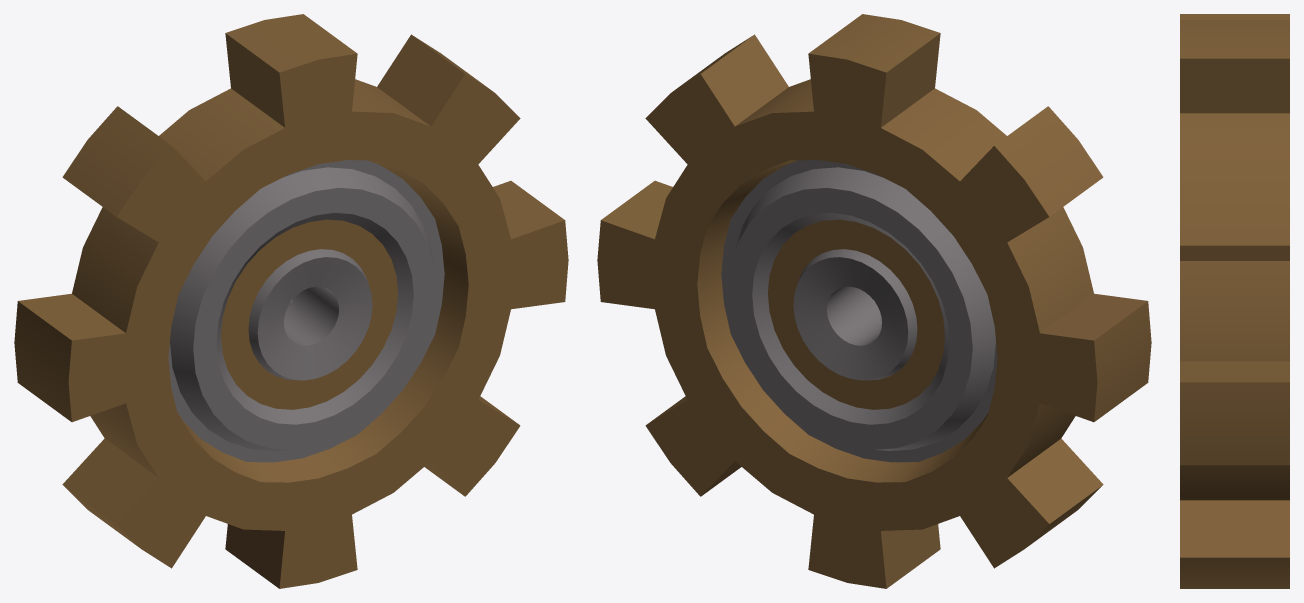
Rendered from cog_small.fbx.
The picture shows the model from 3 angles, left to right: view 1: azimuth 30°, elevation 25°; view 2: azimuth 150°, elevation 25°; view 3: azimuth 270°, elevation 25°; orthographic projection.
Visible parts, largest first — view 1: Cog_Small; view 2: Cog_Small; view 3: Cog_Small.
Boxes of the visible parts, x1,y1,x2,y2 form: Cog_Small: (14, 14, 568, 588); Cog_Small: (597, 14, 1151, 588); Cog_Small: (1180, 14, 1289, 588).
Bounding box in the file's own units: 30.48 × 30.48 × 5.72.
